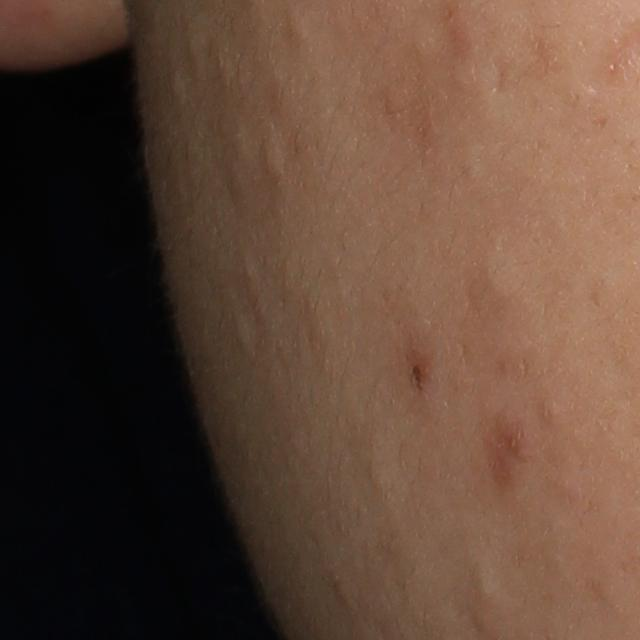atrophic_scar: (490, 58, 513, 100)
comedo: (468, 558, 507, 606), (255, 136, 285, 179), (166, 67, 188, 102)
